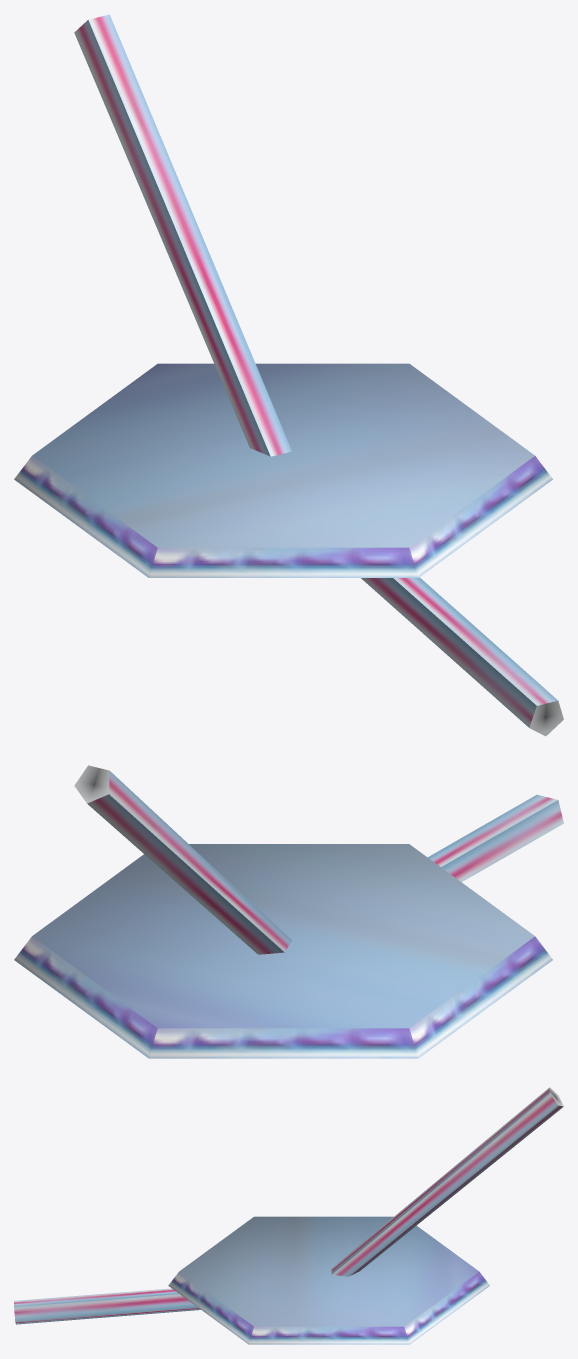
Rendered from soda_cup_lid.glb.
3 views of the same model, one above another, from view 1: azimuth 30°, elevation 25°; view 2: azimuth 150°, elevation 25°; view 3: azimuth 270°, elevation 25° (orthographic). The views are drawn at different scales.
Parts seen in each view (by area): view 1: Soda_Cup_Lid; view 2: Soda_Cup_Lid; view 3: Soda_Cup_Lid.
Boxes of the visible parts, x1,y1,x2,y2 form: Soda_Cup_Lid: (14, 14, 563, 736); Soda_Cup_Lid: (14, 765, 563, 1058); Soda_Cup_Lid: (14, 1087, 563, 1344).
Bounding box in the file's own units: 0.2422 × 0.2244 × 0.4778.
1 material, 1 textured.
